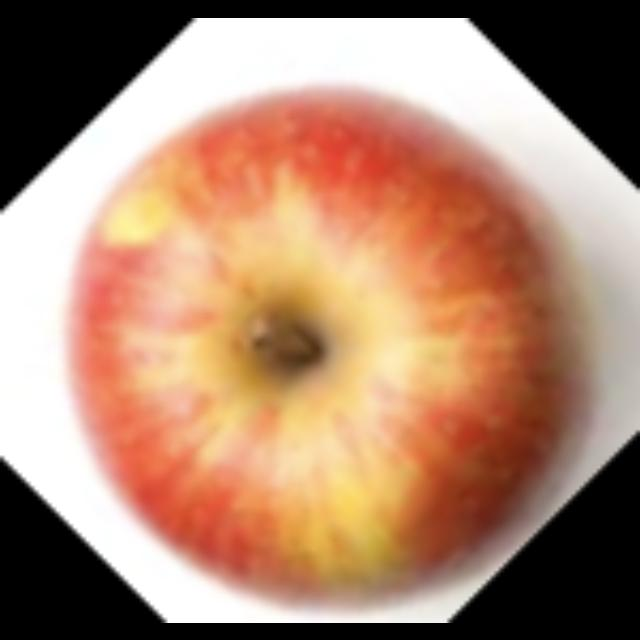Apel Segar: (70, 86, 578, 598)
